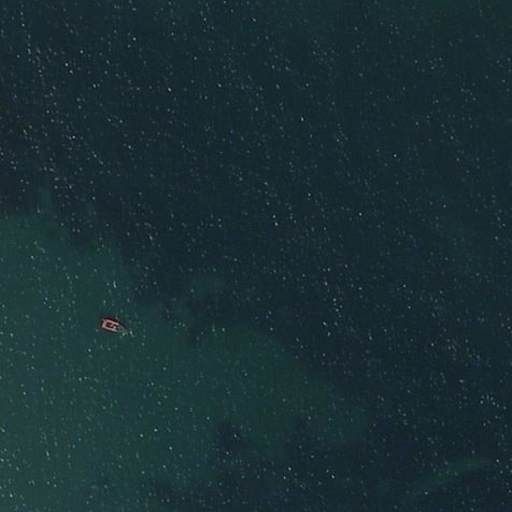ship: (98, 315, 130, 338)
